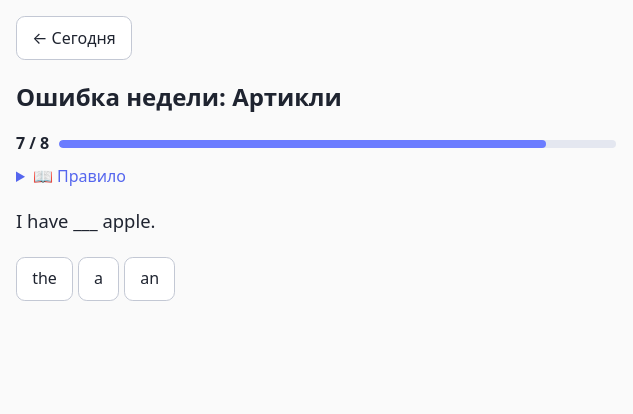
Test: FocusDrill › после восьмого ответа сначала показывает результат, а блок закрывает только «Дальше»
What coordinates should you click on to do the following:
click the button "the"
I would click on:
 (45, 279)
Its box is [16,257,73,301].
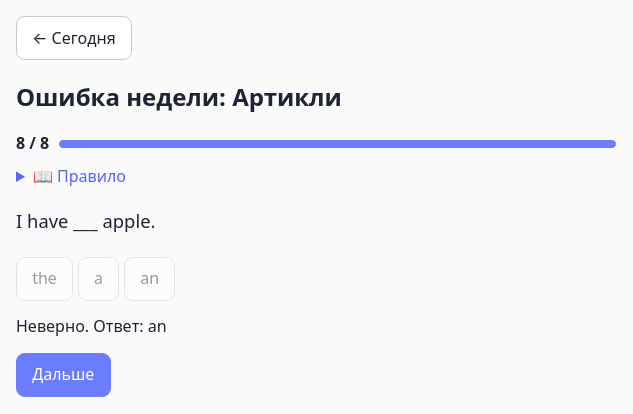
Expected: the text "Свободная тренировка" is not shown
Expected: the message shows "Неверно", [16,315,167,337]
What coordinates should you click on to do the following:
click the button "Дальше"
I would click on:
 (63, 375)
Its box is [16,353,111,397].
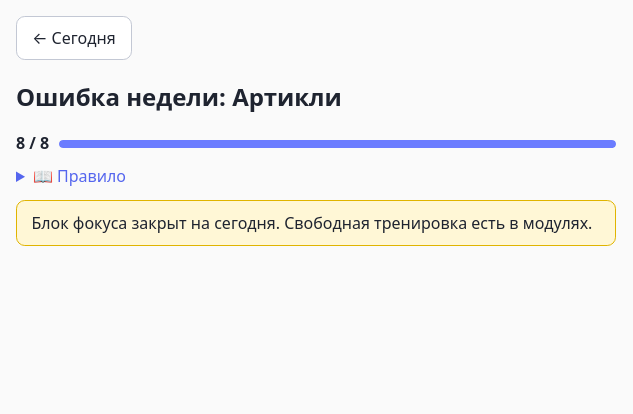
Expected: the message shows "Блок фокуса закрыт", [31,212,592,234]
